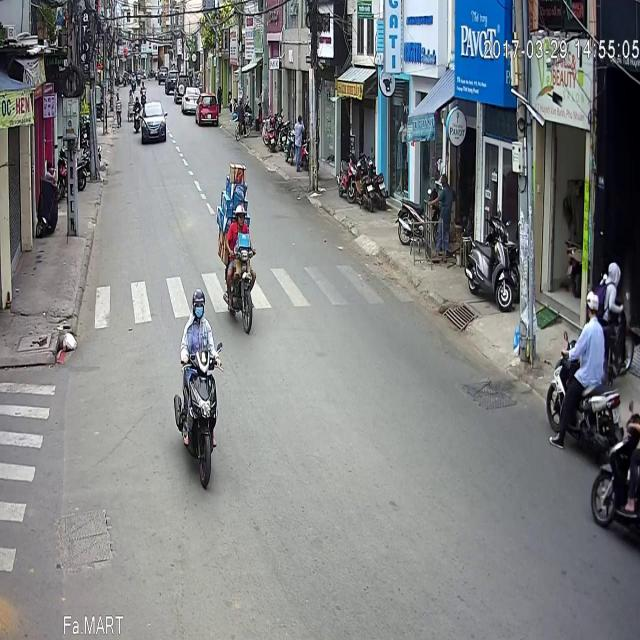bicycle: (234, 39, 250, 84)
car: (138, 42, 168, 86), (195, 34, 219, 66)
motorcycle: (546, 231, 624, 391), (172, 229, 222, 431), (590, 342, 640, 471), (222, 146, 256, 276)
